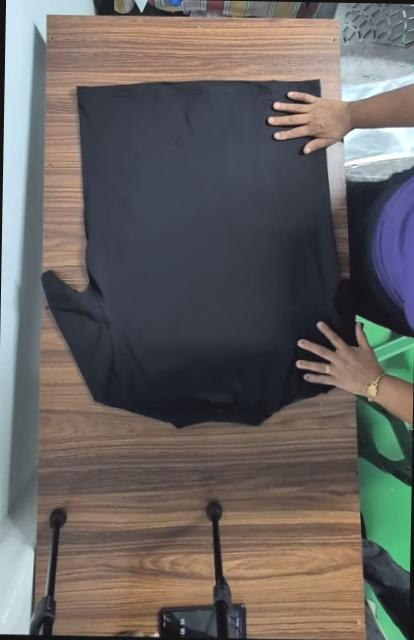new-garment: (43, 80, 345, 426)
